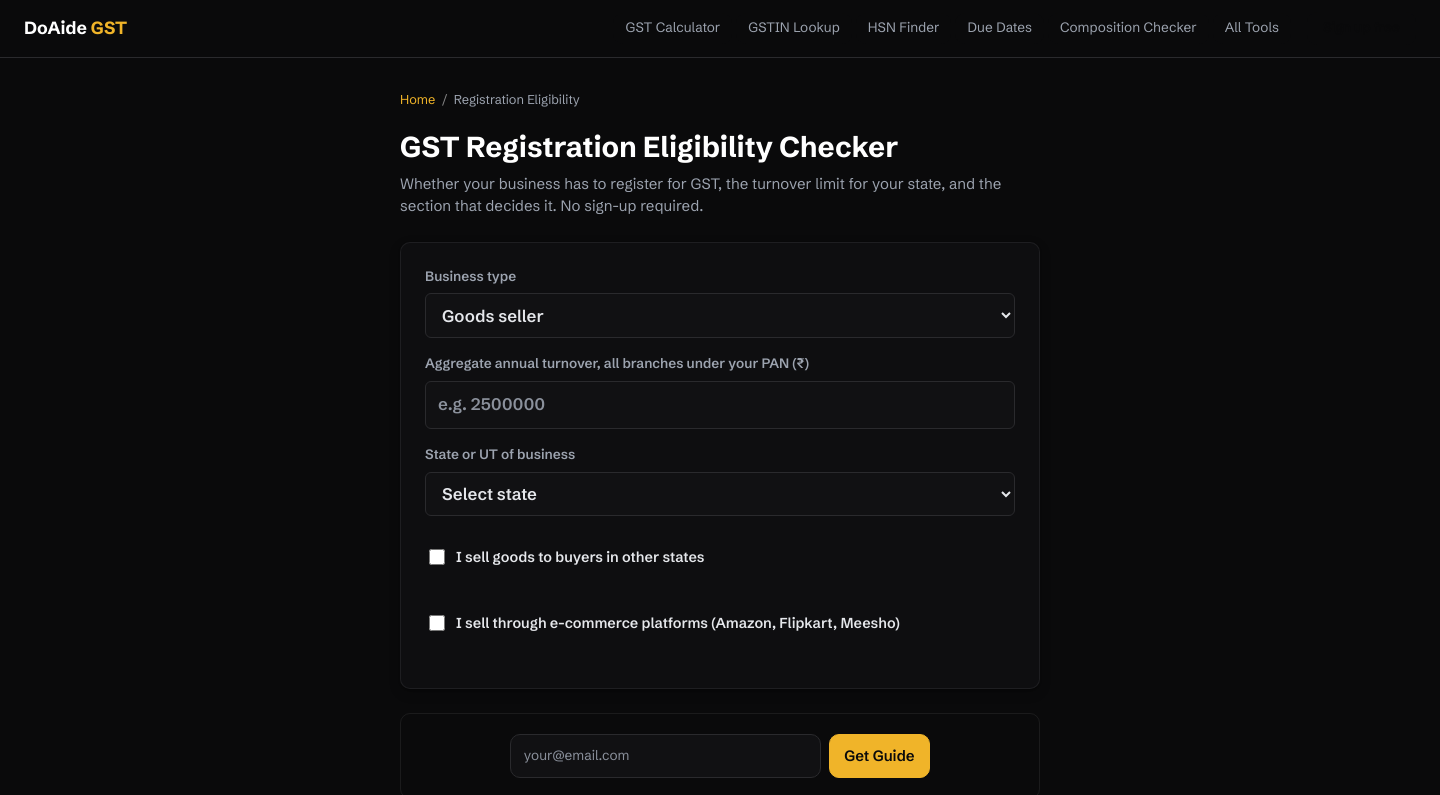
Test: RegistrationCheckerPage › requires an inter-state goods seller to register whatever the turnover, under Section 24(i)
Step 1. Select "Gujarat" in the dropdown labelled "State or UT of business" → (720, 494), box top-left (425, 472), bottom-right (1015, 516)
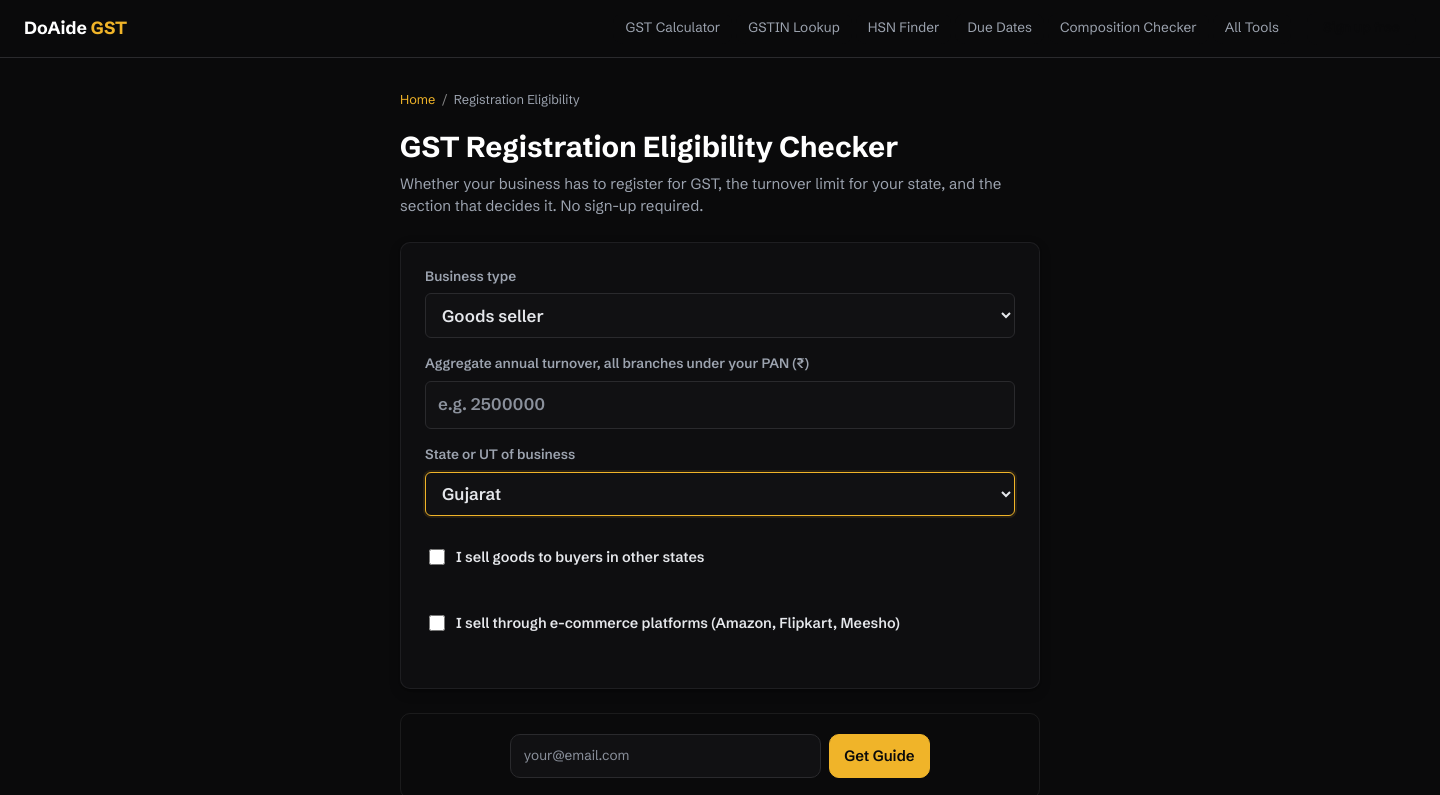
Step 2. Type "100000" into the number field labelled "Aggregate annual turnover, all branches under your PAN (₹)" → (720, 405), box top-left (425, 381), bottom-right (1015, 429)
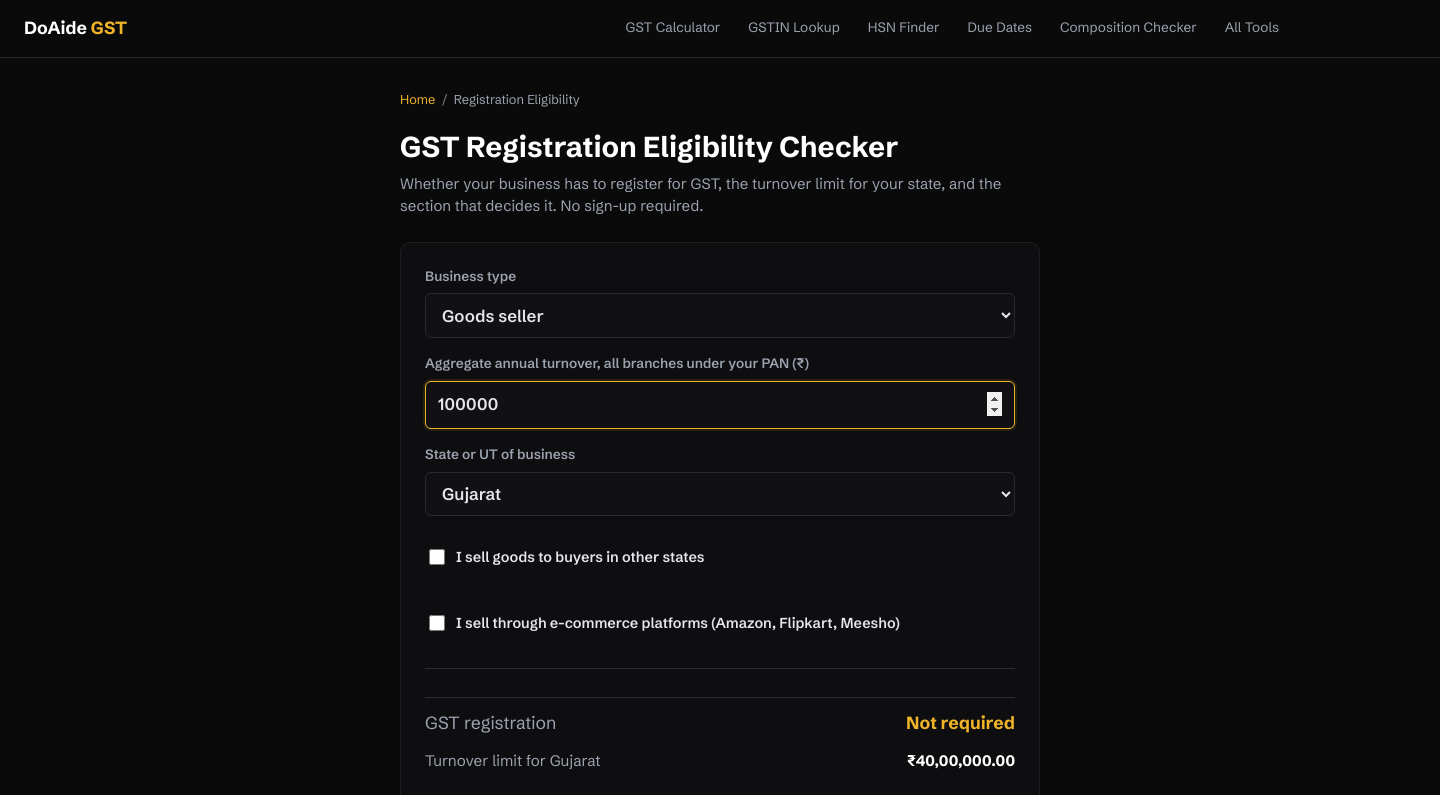
Step 3. Click the checkbox labelled "I sell goods to buyers in other states" → (437, 557), box top-left (429, 535), bottom-right (445, 579)
(page scrolled)
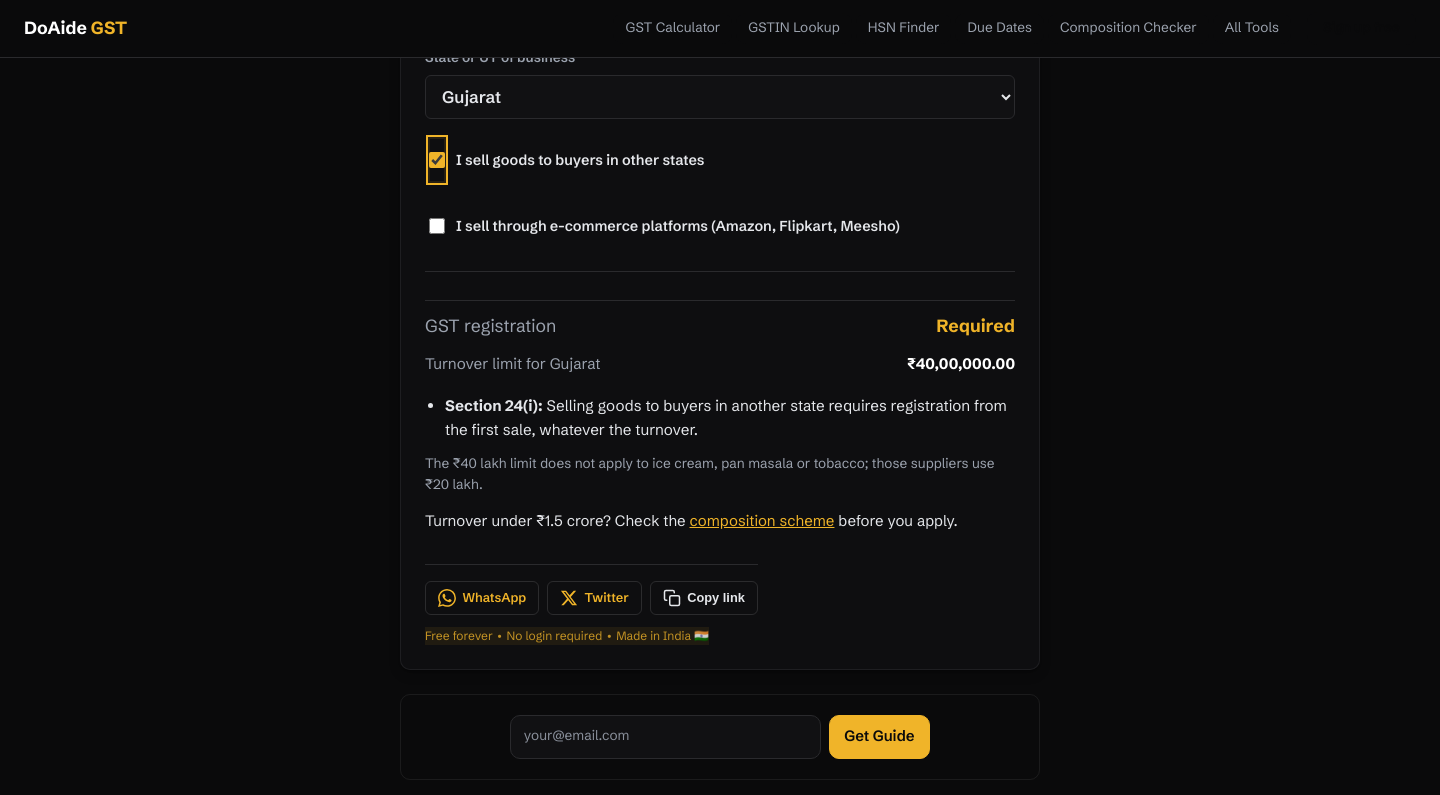
Check: the text "GST registration" shows "Required", box top-left (936, 315), bottom-right (1015, 337)
Check: the text "Section 24(i):" is shown, box top-left (445, 396), bottom-right (543, 415)
